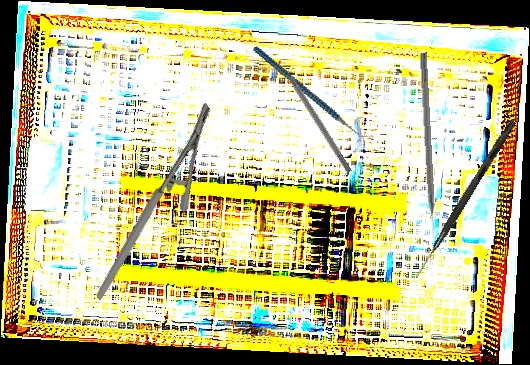Chopper: (251, 17, 376, 169)
Hook Surgical: (413, 118, 517, 281), (277, 58, 354, 174), (417, 52, 437, 239)
Needle Holder: (47, 102, 258, 301)
